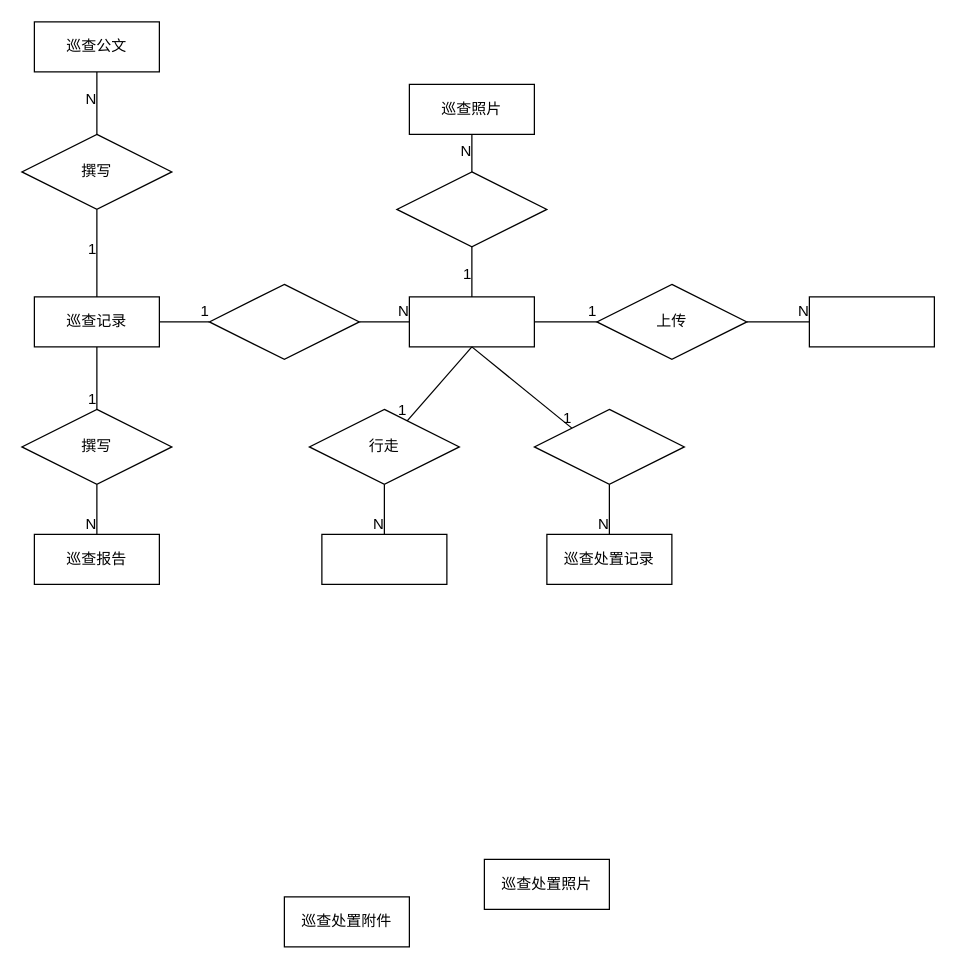
This 956x969 diagram has some shape labels left out. The shapes that lost their labels are listed below. From the top down, each one's centre as x and y in pixels, then its label:
At point (471, 209): "拍摄".
At point (283, 321): "发现".
At point (471, 321): "巡查事项".
At point (871, 321): "巡查附件".
At point (608, 446): "处理".
At point (384, 558): "巡查路线".
